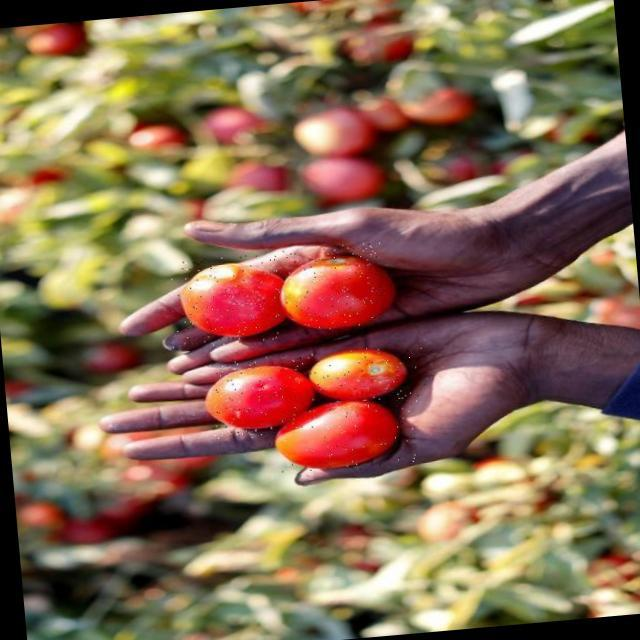Tomate: (260, 388, 417, 477), (165, 251, 286, 348), (204, 351, 319, 441), (282, 240, 387, 335), (296, 342, 426, 412)
